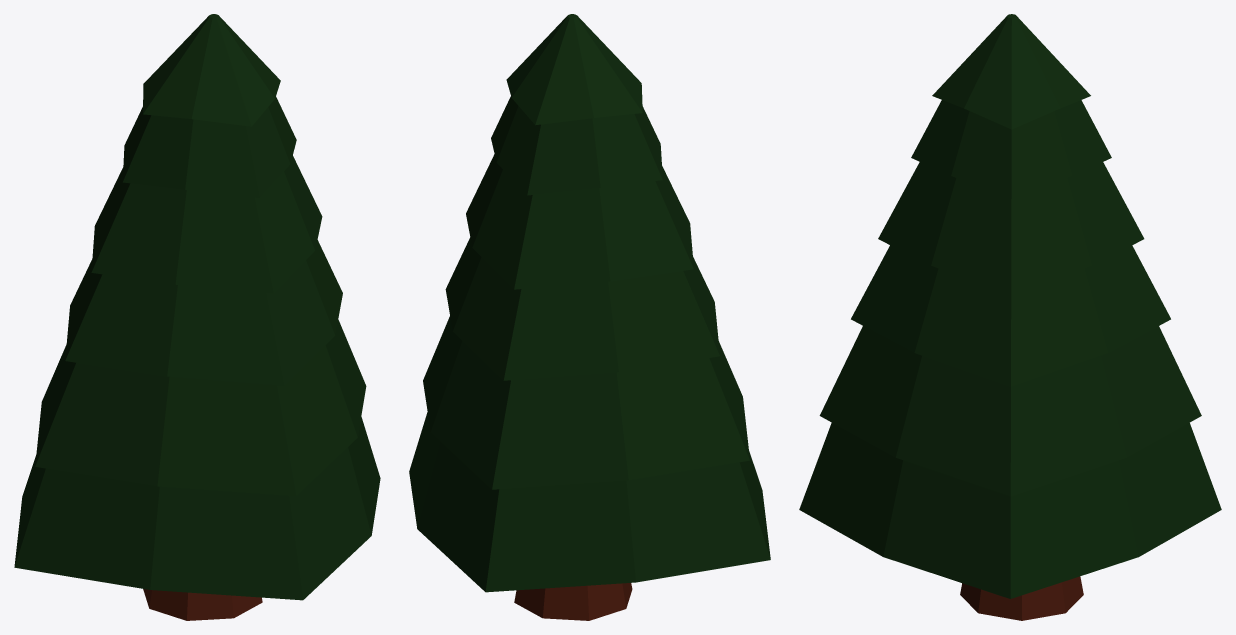
The model's file is mytree.obj.
3 renders of one model, left to right at view 1: azimuth 30°, elevation 25°; view 2: azimuth 150°, elevation 25°; view 3: azimuth 270°, elevation 25°, orthographic.
Visible parts, largest first — view 1: Cylinder; view 2: Cylinder; view 3: Cylinder.
Boxes of the visible parts, bbox=[...] form: Cylinder: bbox=[14, 14, 380, 620]; Cylinder: bbox=[409, 14, 770, 620]; Cylinder: bbox=[799, 14, 1221, 620].
Bounding box in the file's own units: 2.37 × 3.6 × 2.37.
